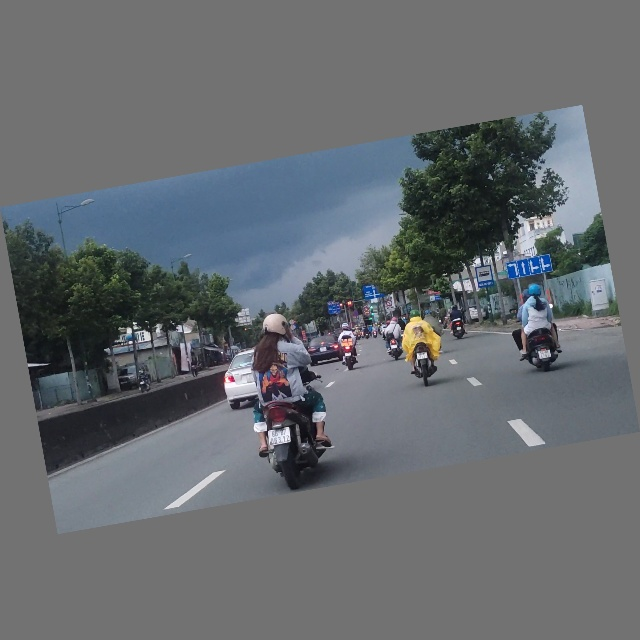I.434a: (475, 265, 494, 289)
P.137: (386, 300, 393, 307)
